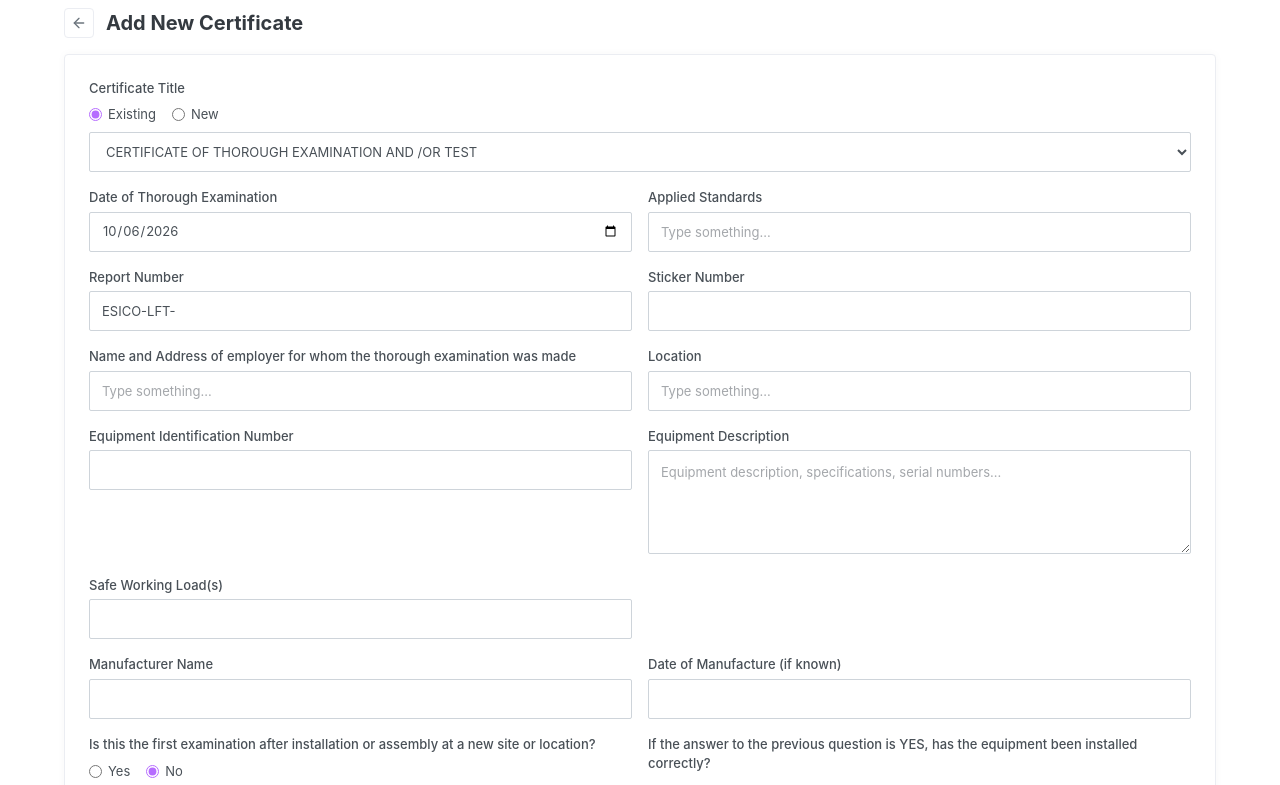
Test: NewCertificate › validates required fields before submitting
Replace the text in the field with placeholder "ESICO-LFT-RXX-XXX" below "Report Number" with "ESICO-123" at x=360, y=311, box [89,291,632,331]
(page scrolled)
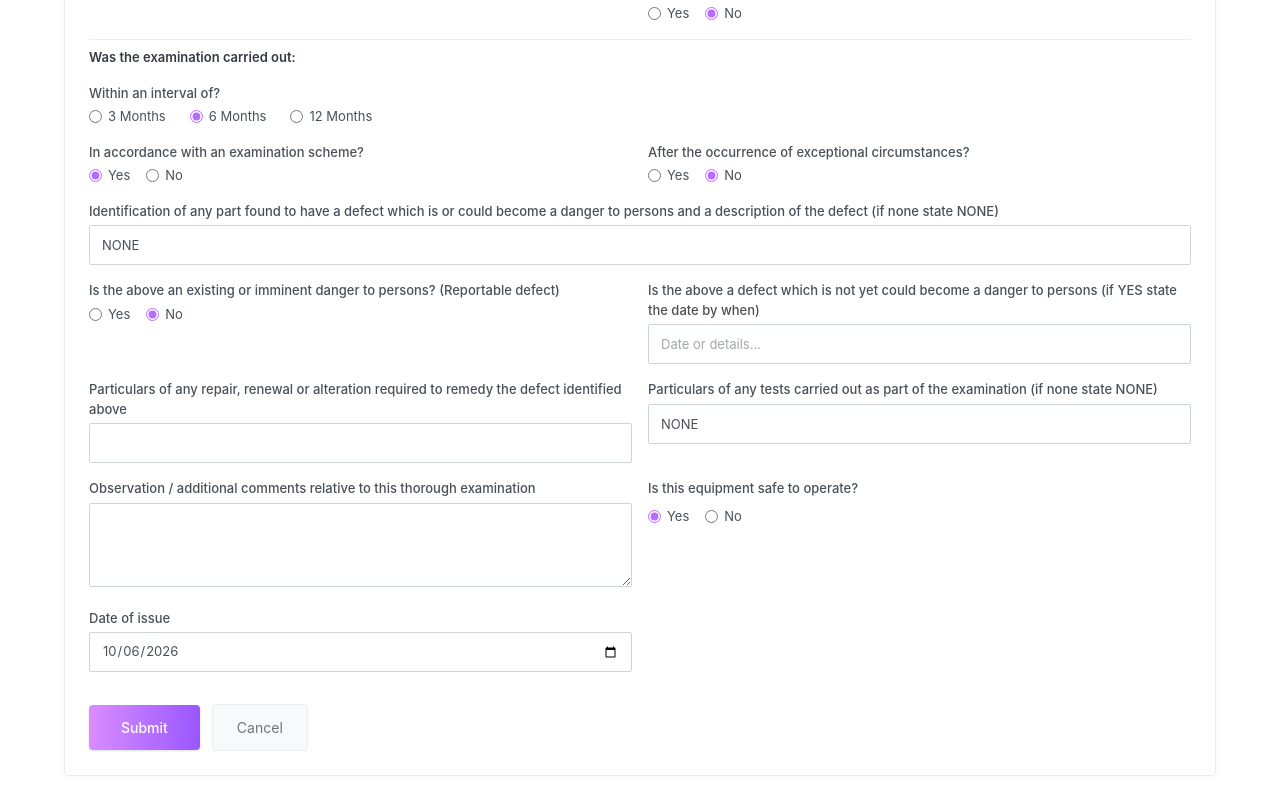
Click the button "Submit" at x=144, y=728, box [89,705,200,750]
(page scrolled)
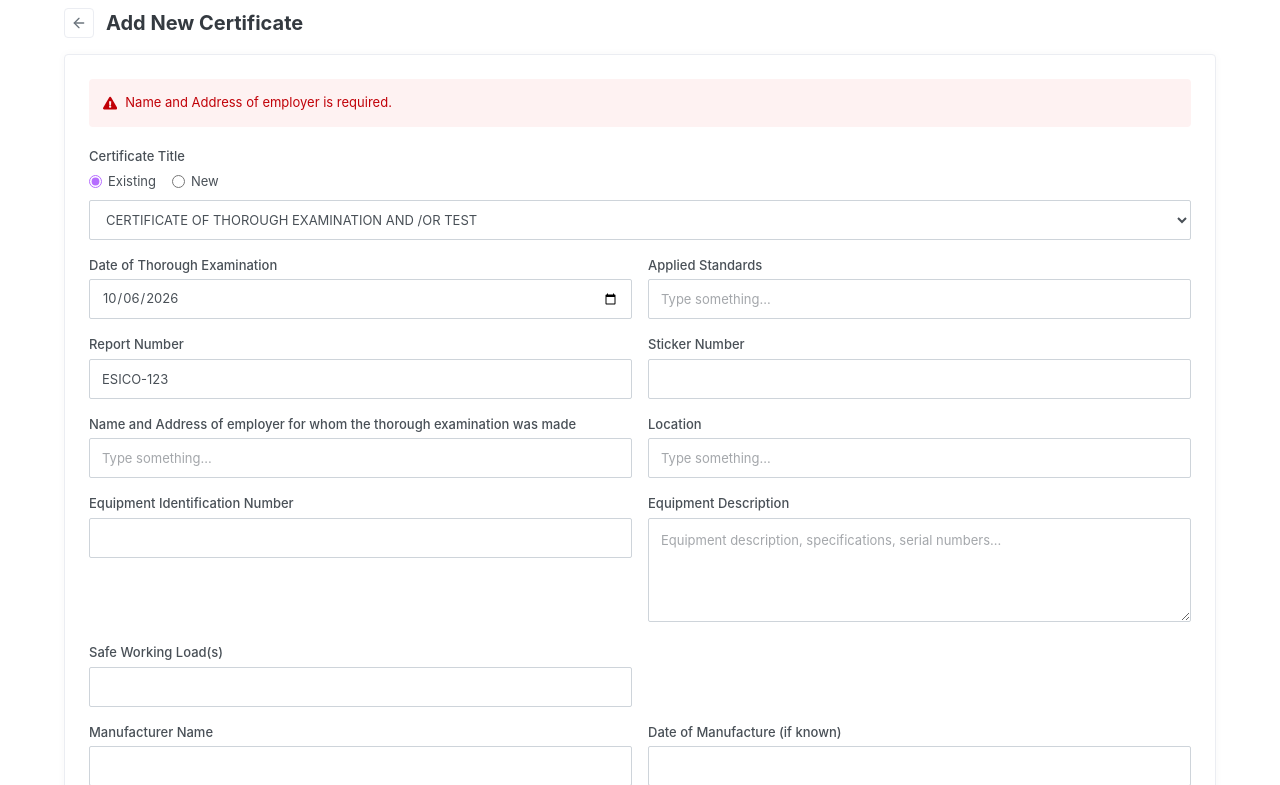
Check: the text "Name and Address of employer is required." is shown, box [125,93,392,112]
